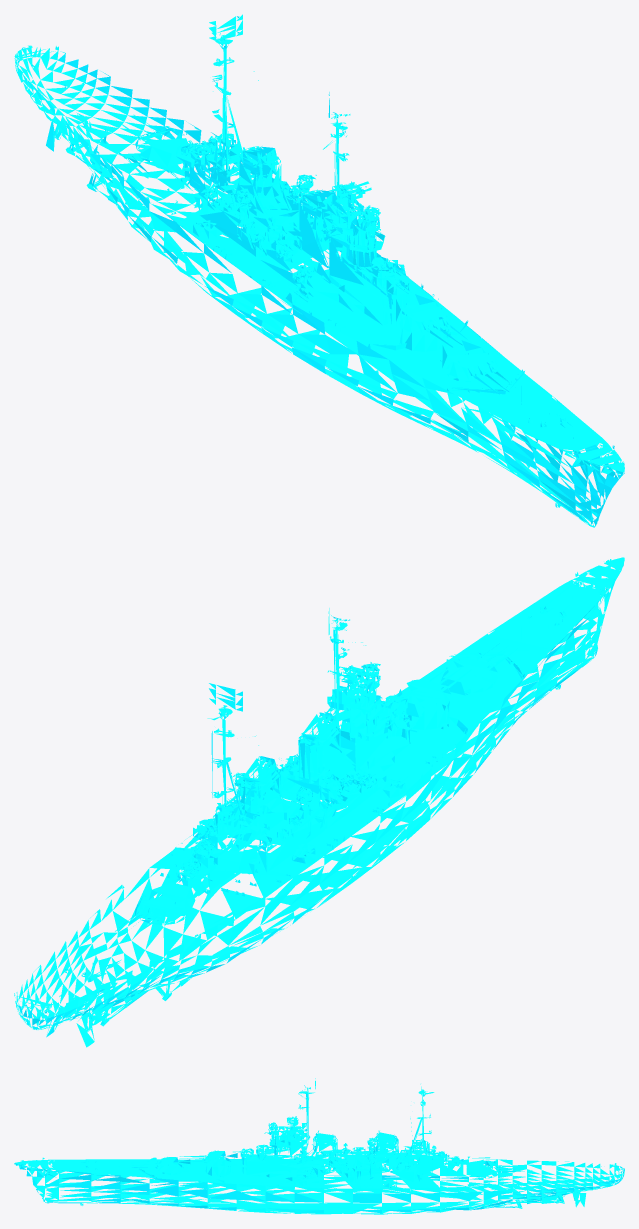
File: Stalingrad.glb
3 views of the same model, one above another, from view 1: azimuth 30°, elevation 25°; view 2: azimuth 150°, elevation 25°; view 3: azimuth 270°, elevation 25° (orthographic). The views are drawn at different scales.
Size of the model in its own units: 2.13 by 4.22 by 18.23.
